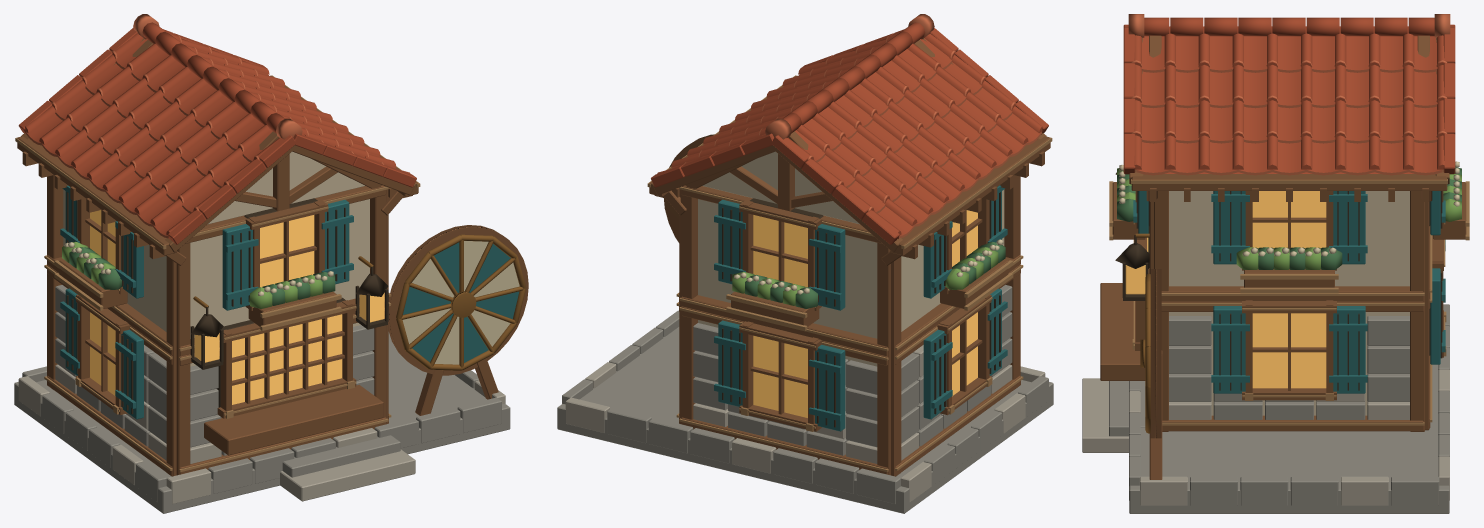
The picture shows the model from 3 angles, left to right: view 1: azimuth 30°, elevation 25°; view 2: azimuth 150°, elevation 25°; view 3: azimuth 270°, elevation 25°; orthographic projection. The views are drawn at different scales.
Parts seen in each view (by area): view 1: alpine_chance_wheel_geometry, alpine_wheel_geometry; view 2: alpine_chance_wheel_geometry, alpine_wheel_geometry; view 3: alpine_chance_wheel_geometry, alpine_wheel_geometry.
Part boxes in pixels (<box>): alpine_chance_wheel_geometry: <box>14,14,510,513</box>; alpine_wheel_geometry: <box>388,225,528,375</box>; alpine_chance_wheel_geometry: <box>557,14,1053,513</box>; alpine_wheel_geometry: <box>664,134,714,242</box>; alpine_chance_wheel_geometry: <box>1082,14,1469,513</box>; alpine_wheel_geometry: <box>1140,269,1161,438</box>.
Bounding box in the file's own units: 1.04 × 0.9233 × 0.8421.
